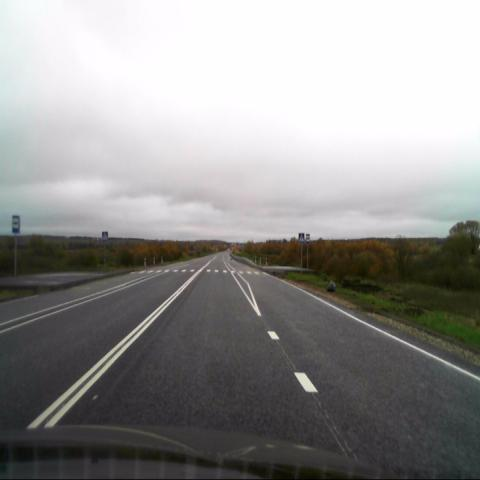5_16: (12, 215, 20, 233)
